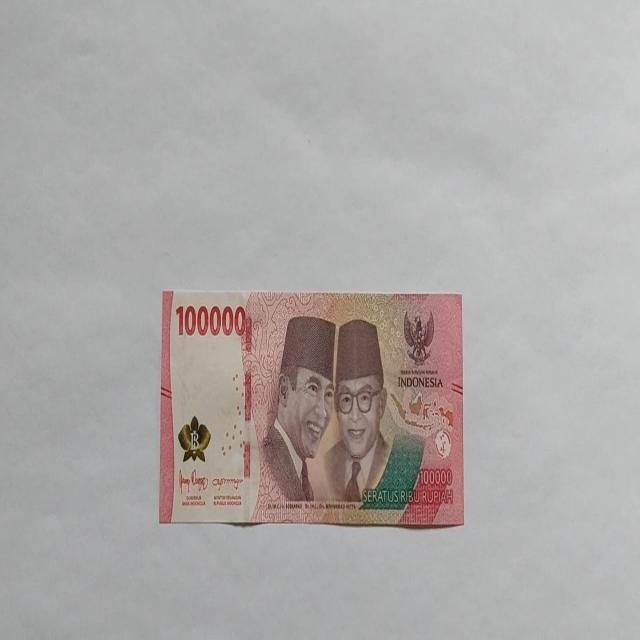Kertas: (158, 288, 464, 528), (174, 300, 247, 338)
